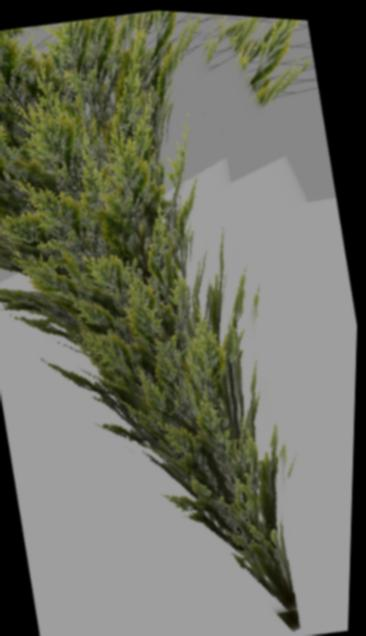tree_gazebo: (0, 8, 300, 609)
